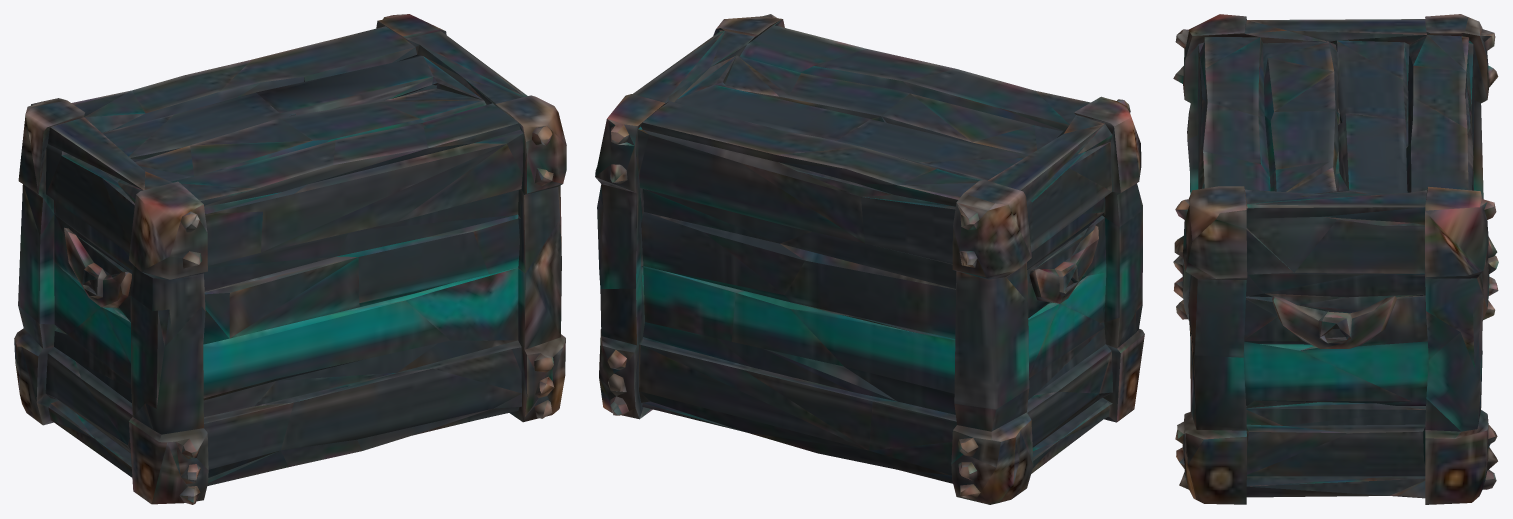
Rendered from sci-fi-crate.lod1.glb.
The picture shows the model from 3 angles, left to right: view 1: azimuth 30°, elevation 25°; view 2: azimuth 150°, elevation 25°; view 3: azimuth 270°, elevation 25°; orthographic projection.
Bounding box in the file's own units: 0.879 × 0.6 × 0.5953.
1 material, 1 textured.
